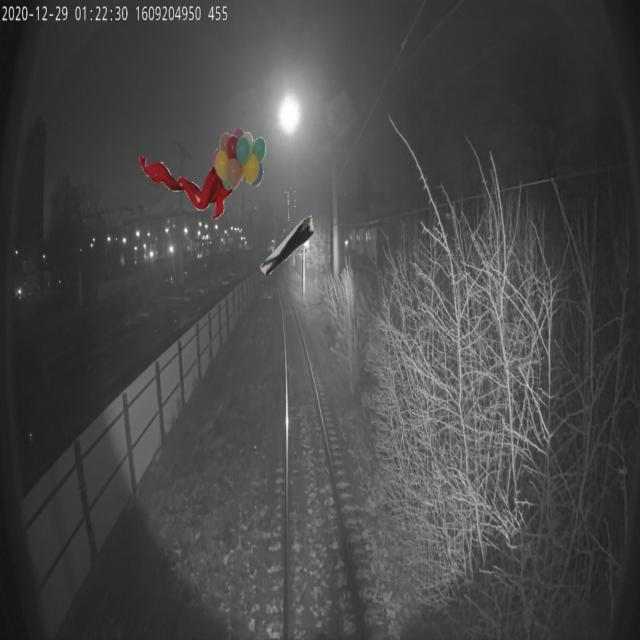balloon: (212, 126, 266, 190)
floating object: (138, 154, 232, 218), (260, 212, 317, 276)
